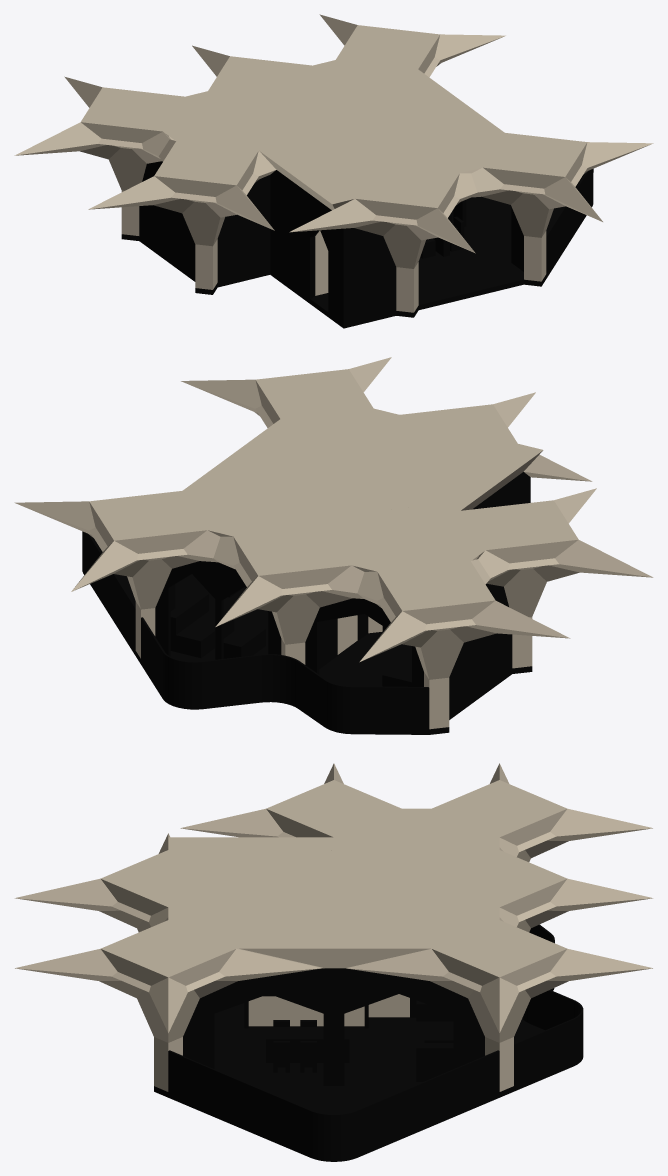
The picture shows the model from 3 angles, top to bottom: view 1: azimuth 30°, elevation 25°; view 2: azimuth 150°, elevation 25°; view 3: azimuth 270°, elevation 25°; orthographic projection. The views are drawn at different scales.
Visible parts, largest first — view 1: santech, object 51, object 2, object 53, object 54, object 5, object 4, object 40, object 50; view 2: santech, object 3, object 2, object 39, object 54, object 5, object 43, object 4, object 20, object 21, object 58, object 51 (+3 smaller); view 3: santech, object 4, object 40, object 2, object 5, object 3, object 18, object 19, object 59, object 22.
Boxes of the visible parts, x1,y1,x2,y2 form: santech: [14, 14, 653, 312]; object 51: [270, 170, 396, 323]; object 2: [121, 216, 546, 328]; object 53: [217, 175, 270, 282]; object 54: [139, 161, 195, 276]; object 5: [451, 196, 593, 278]; object 4: [546, 168, 593, 273]; object 40: [453, 200, 523, 271]; object 50: [315, 230, 328, 295]; santech: [14, 357, 653, 729]; object 3: [141, 617, 429, 729]; object 2: [170, 587, 532, 734]; object 39: [155, 561, 281, 659]; object 54: [449, 583, 512, 714]; object 5: [82, 566, 429, 734]; object 43: [305, 598, 423, 686]; object 4: [82, 531, 135, 649]; object 20: [170, 611, 234, 657]; object 21: [223, 623, 265, 658]; object 58: [319, 614, 368, 668]; object 51: [472, 472, 530, 509]; santech: [14, 763, 653, 1091]; object 4: [168, 1050, 499, 1156]; object 40: [183, 968, 484, 1085]; object 2: [154, 1003, 513, 1097]; object 5: [168, 988, 583, 1161]; object 3: [514, 924, 583, 1085]; object 18: [266, 1027, 349, 1062]; object 19: [416, 1043, 453, 1064]; object 59: [368, 994, 409, 1017]; object 22: [416, 1000, 453, 1021].
Size of the model in its own units: 15.76 by 3.81 by 15.46.
